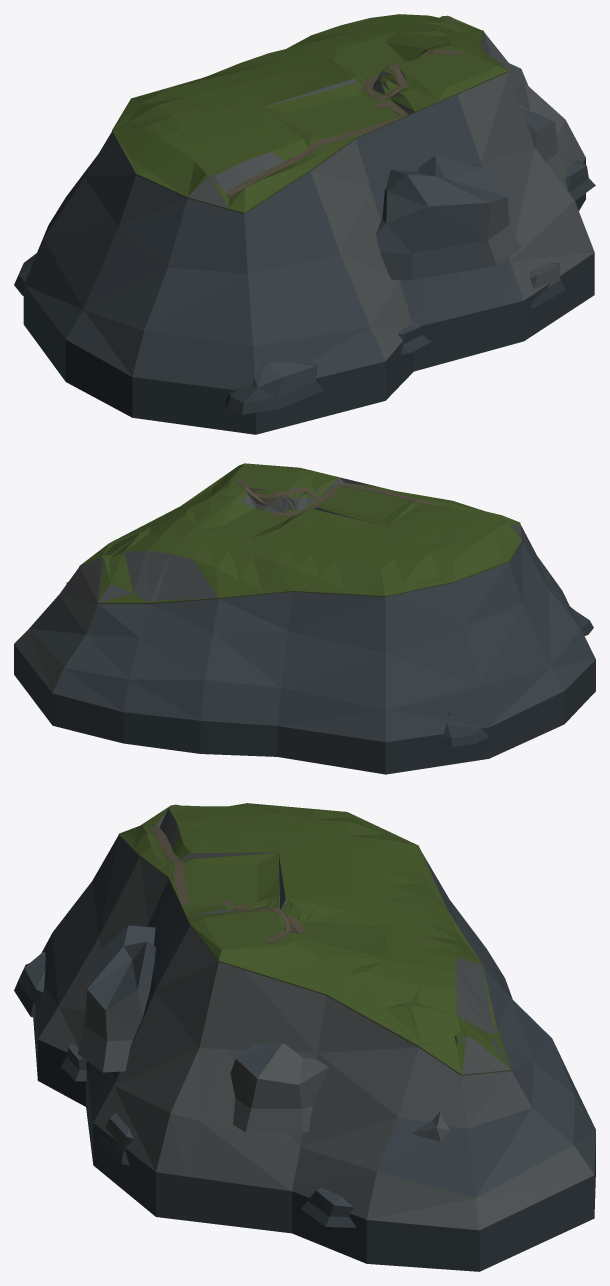
File: island_a.glb
The picture shows the model from 3 angles, top to bottom: view 1: azimuth 30°, elevation 25°; view 2: azimuth 150°, elevation 25°; view 3: azimuth 270°, elevation 25°; orthographic projection. The views are drawn at different scales.
Visible parts, largest first — view 1: island_a faulted bedrock, island_a grass and exposed rock terrain, island_a cliff outcrop 00, island_a low shore ledge 00, island_a terrain fitted keeper paths, island_a cliff outcrop 01, island_a low shore ledge 02, island_a low shore ledge 03, island_a low shore ledge 01; view 2: island_a faulted bedrock, island_a grass and exposed rock terrain, island_a terrain fitted keeper paths, island_a low shore ledge 04; view 3: island_a faulted bedrock, island_a grass and exposed rock terrain, island_a cliff outcrop 00, island_a cliff outcrop 01, island_a terrain fitted keeper paths, island_a low shore ledge 03, island_a low shore ledge 00, island_a low shore ledge 02, island_a low shore ledge 01.
Boxes of the visible parts, x1,y1,x2,y2 form: island_a faulted bedrock: (23,32,594,434); island_a grass and exposed rock terrain: (112,14,508,213); island_a cliff outcrop 00: (376,156,521,280); island_a low shore ledge 00: (225,361,322,414); island_a terrain fitted keeper paths: (225,49,461,196); island_a cliff outcrop 01: (520,104,567,178); island_a low shore ledge 02: (530,262,565,308); island_a low shore ledge 03: (564,160,595,200); island_a low shore ledge 01: (398,321,430,354); island_a faulted bedrock: (14,524,595,774); island_a grass and exposed rock terrain: (79,463,521,603); island_a terrain fitted keeper paths: (235,478,446,516); island_a low shore ledge 04: (439,711,488,747); island_a faulted bedrock: (33,835,595,1271); island_a grass and exposed rock terrain: (118,803,511,1075); island_a cliff outcrop 00: (77,925,155,1072); island_a cliff outcrop 01: (230,1043,328,1132); island_a terrain fitted keeper paths: (149,827,306,943); island_a low shore ledge 03: (301,1187,356,1227); island_a low shore ledge 00: (14,952,45,1017); island_a low shore ledge 02: (98,1113,133,1165); island_a low shore ledge 01: (61,1043,86,1081).
Bounding box in the file's own units: 101 × 36.11 × 81.45.
